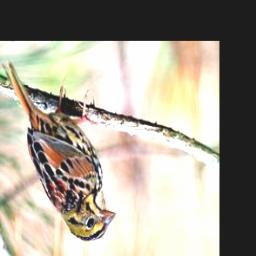Sparrow: (1, 58, 118, 243)
